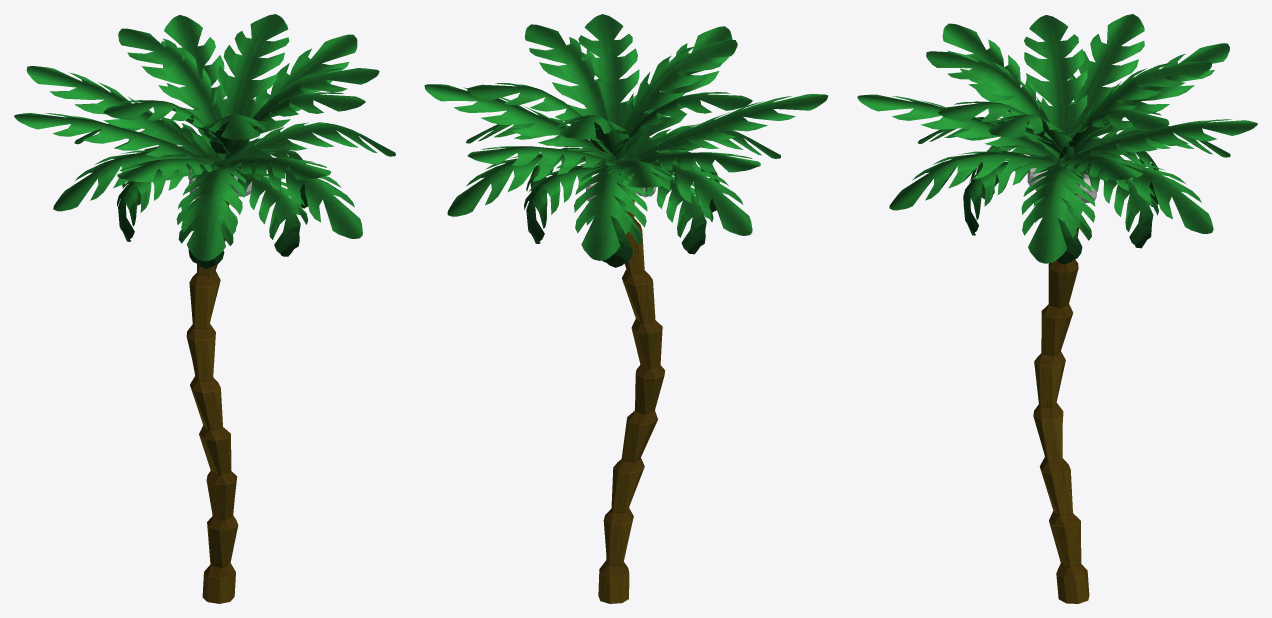
Rendered from Tree2.obj.
3 views of the same model, side by side, from view 1: azimuth 30°, elevation 25°; view 2: azimuth 150°, elevation 25°; view 3: azimuth 270°, elevation 25° (orthographic).
Visible parts, largest first — view 1: Cube.010_Cube.002; view 2: Cube.010_Cube.002; view 3: Cube.010_Cube.002.
Boxes of the visible parts, x1,y1,x2,y2 form: Cube.010_Cube.002: (14, 14, 395, 603); Cube.010_Cube.002: (424, 14, 828, 603); Cube.010_Cube.002: (857, 14, 1257, 603).
Size of the model in its own units: 8.78 by 12.98 by 9.05.
